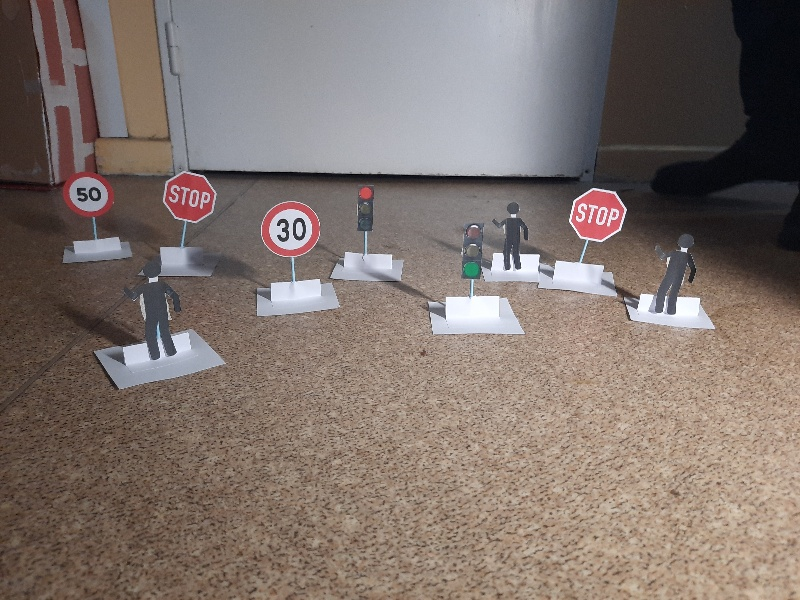Green: (464, 224, 482, 279)
Limit 30: (259, 204, 318, 255)
Limit 50: (62, 169, 112, 213)
Person: (124, 263, 178, 359), (652, 235, 697, 316), (493, 203, 527, 269)
Red: (357, 185, 375, 229)
Stop: (162, 169, 215, 221), (571, 190, 625, 241)
